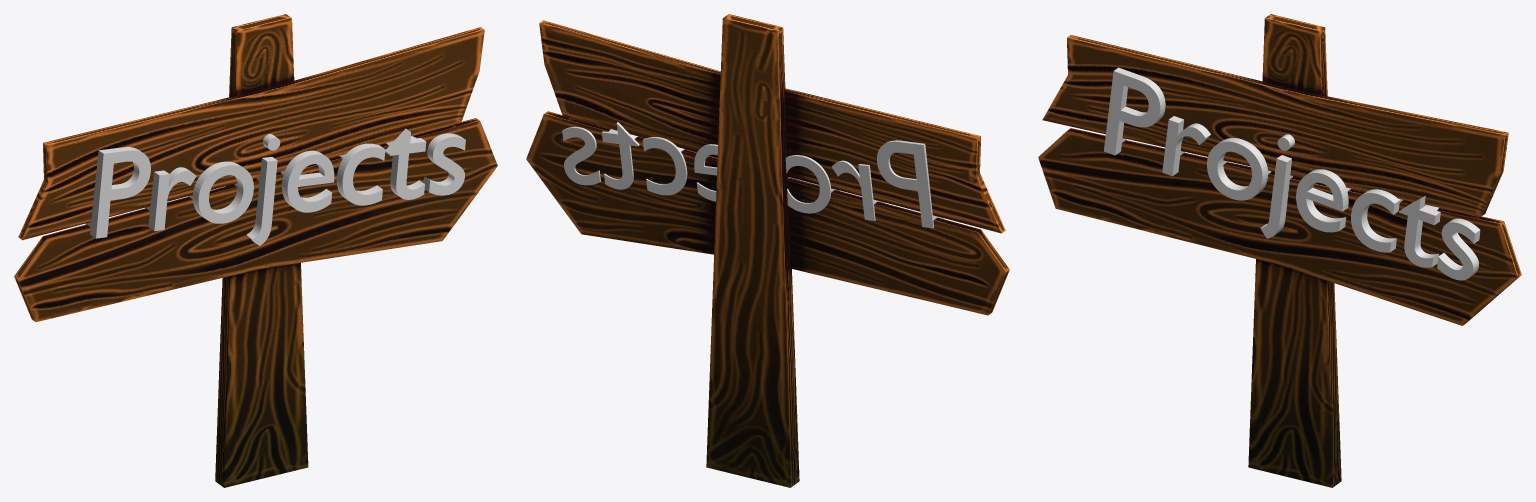
The model's file is projects.glb.
The picture shows the model from 3 angles, left to right: view 1: azimuth 30°, elevation 25°; view 2: azimuth 150°, elevation 25°; view 3: azimuth 330°, elevation 25°; orthographic projection.
Parts seen in each view (by area): view 1: sign2, Projects; view 2: sign2, Projects; view 3: sign2, Projects.
Part boxes in pixels (x1,y1,x2,y2): sign2: (14,14,497,487); Projects: (85,128,465,245); sign2: (526,14,1009,487); Projects: (562,122,943,228); sign2: (1038,14,1521,487); Projects: (1104,67,1480,280).
Size of the model in its own units: 3.32 by 2.99 by 0.2112.
Materials: 1 (1 with a texture image).
